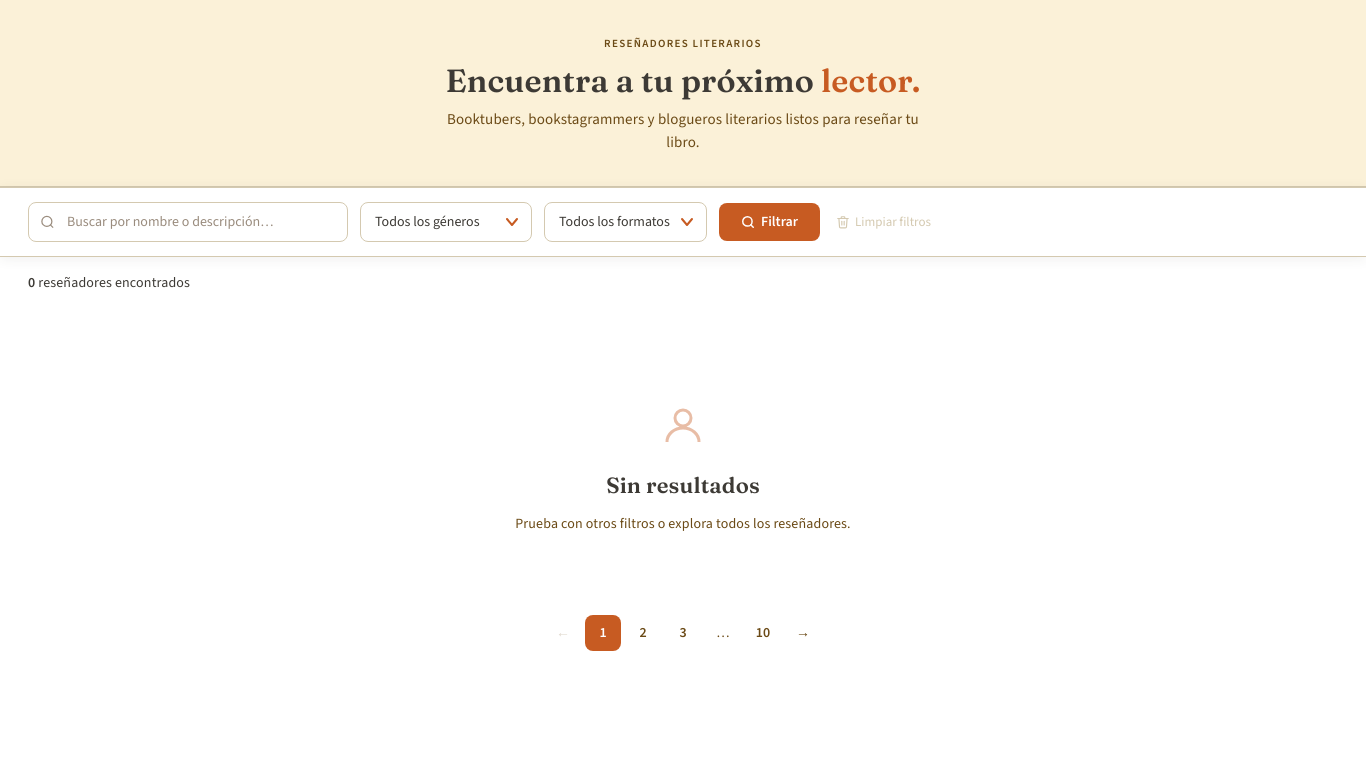
Test: ReviewersPage — fetch/filter contract › disables "Limpiar filtros" until a filter is picked, applies it, and removes it from the request on clear
Check: the button with aria-label "limpiar filtros de reseñadores" is disabled, box [832, 204, 935, 240]
Type "María" into the field labelled "Buscar por nombre o descripción…". click: x=188, y=222
box: [28, 202, 348, 242]
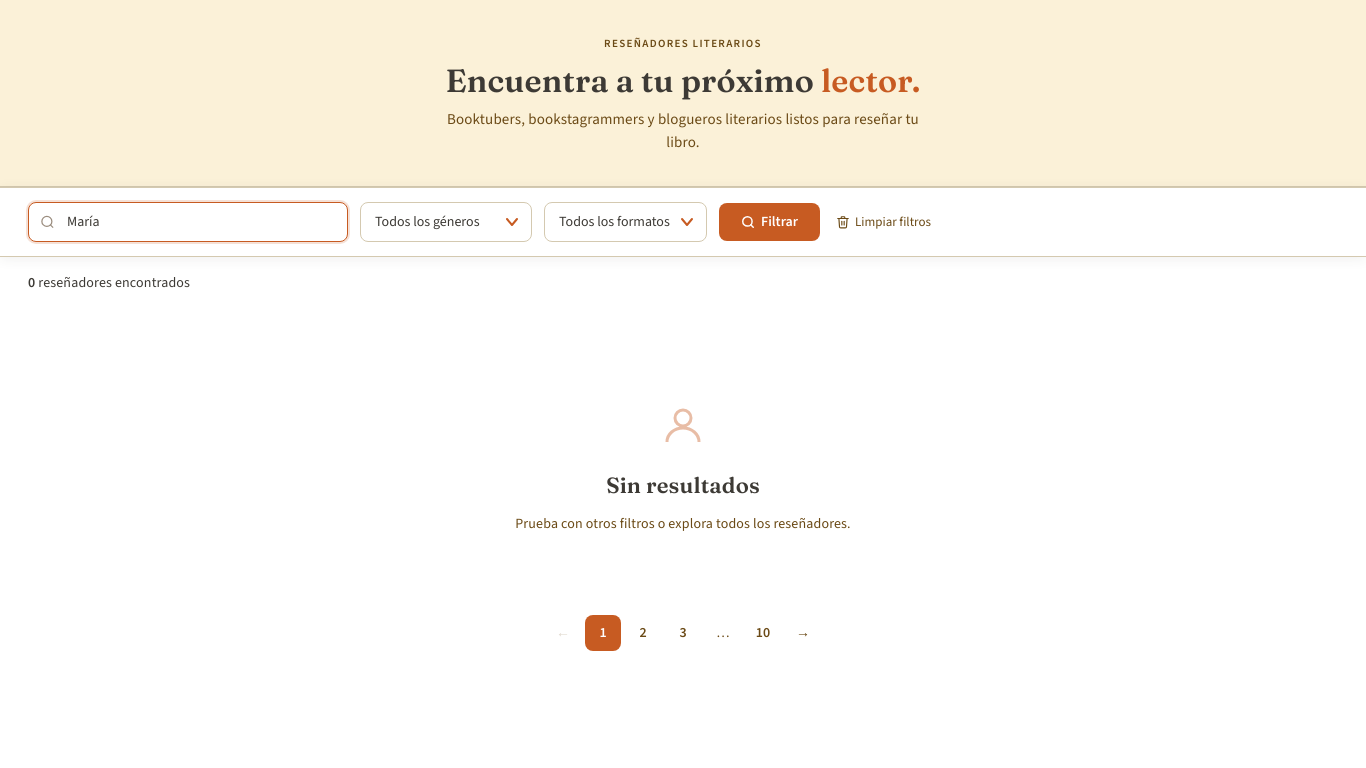
Check: the button with aria-label "limpiar filtros de reseñadores" is enabled, box [832, 204, 935, 240]
Click the button with aria-label "filtrar reseñadores". click: x=770, y=222
box: [719, 203, 820, 241]
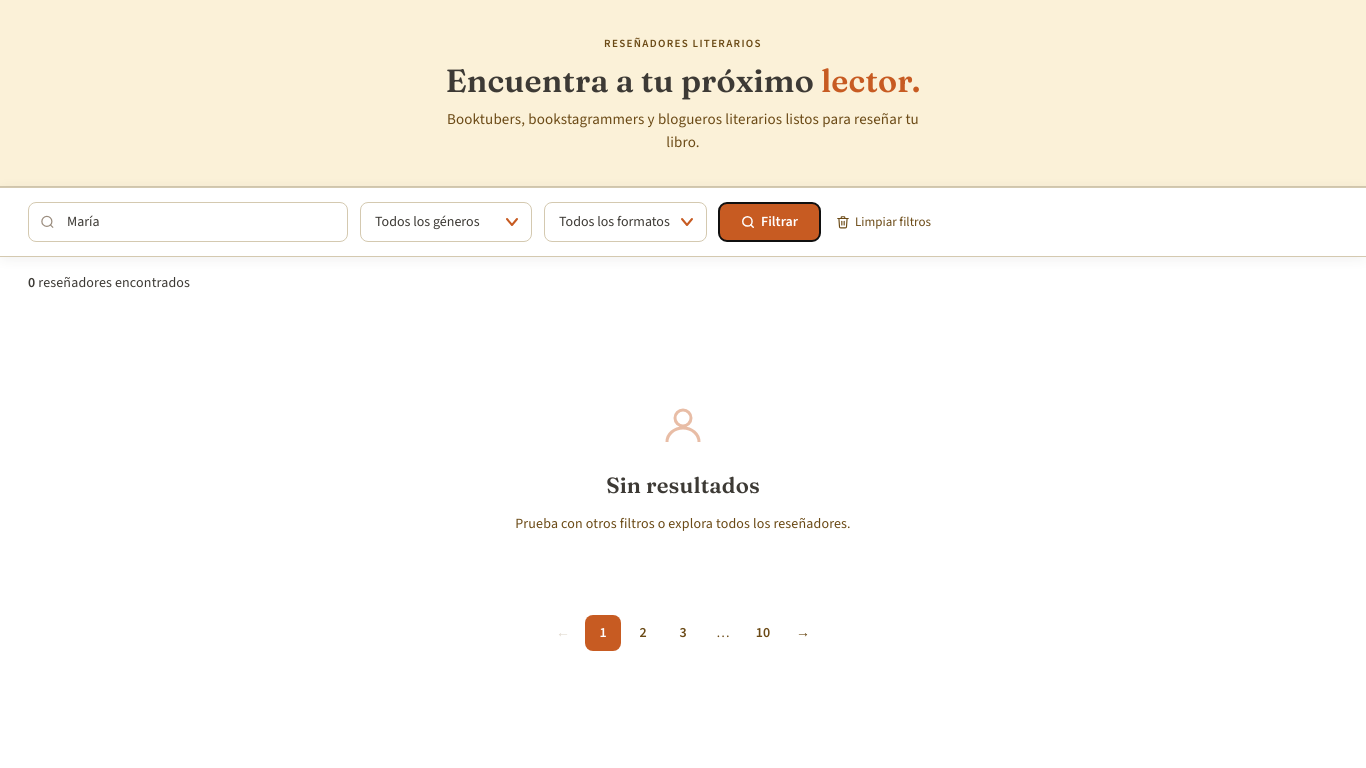
Click the button with aria-label "limpiar filtros de reseñadores". click: x=883, y=222
box: [832, 204, 935, 240]
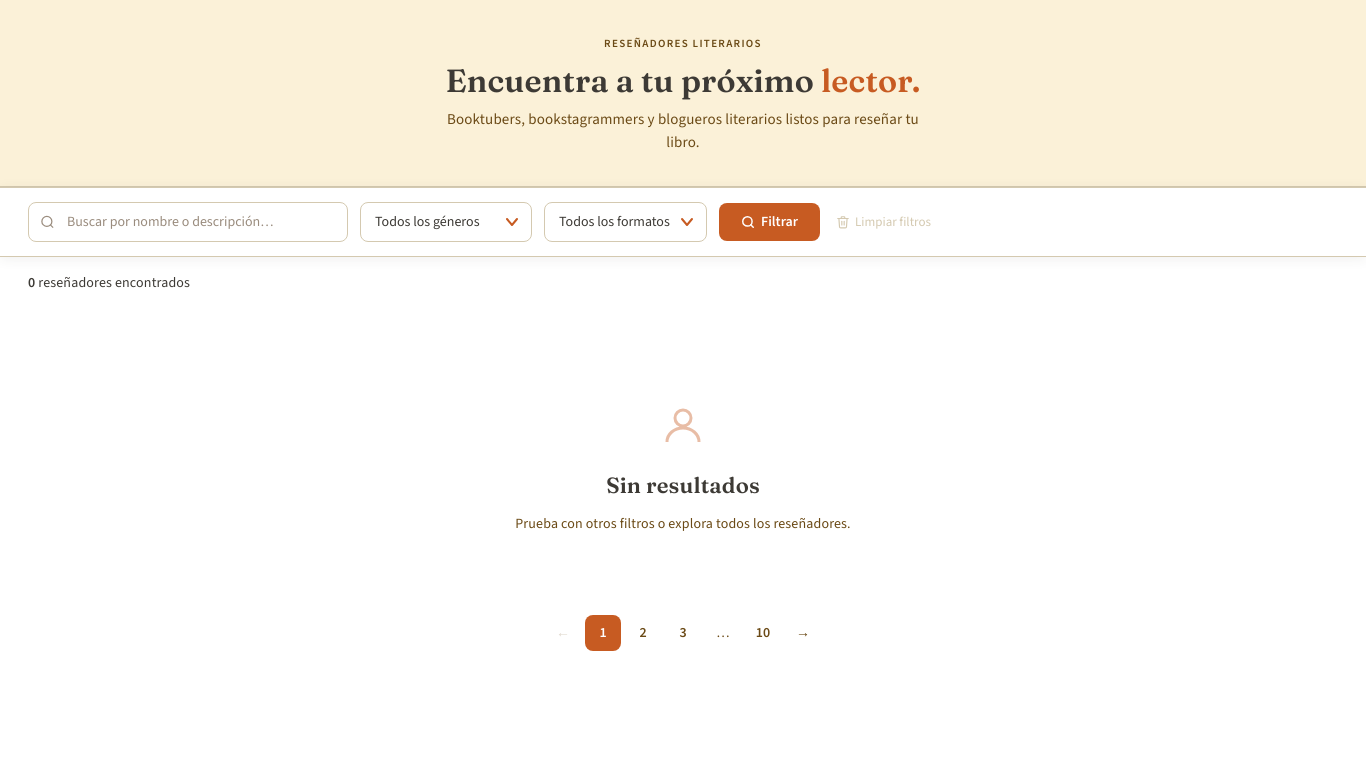
Check: the field labelled "Buscar por nombre o descripción…" is empty, box [28, 202, 348, 242]
Check: the button with aria-label "limpiar filtros de reseñadores" is disabled, box [832, 204, 935, 240]
